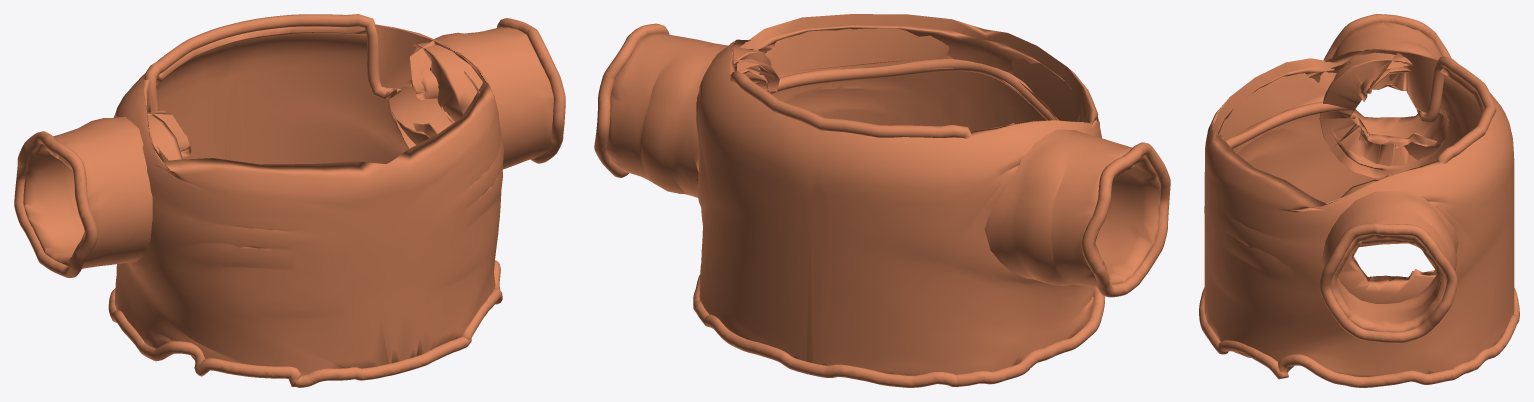
Rendered from 2HT-feminino.glb.
3 renders of one model, left to right at view 1: azimuth 30°, elevation 25°; view 2: azimuth 150°, elevation 25°; view 3: azimuth 270°, elevation 25°, orthographic. The views are drawn at different scales.
Visible parts, largest first — view 1: fitted-shell, bound-edge (×4); view 2: fitted-shell, bound-edge (×4); view 3: fitted-shell, bound-edge (×4).
Boxes of the visible parts, left/top/right/bottom form: fitted-shell: left=23, top=24, right=553, bottom=379; bound-edge (×4): left=14, top=14, right=565, bottom=387; fitted-shell: left=606, top=14, right=1160, bottom=375; bound-edge (×4): left=594, top=23, right=1170, bottom=387; fitted-shell: left=1204, top=22, right=1514, bottom=376; bound-edge (×4): left=1199, top=14, right=1519, bottom=387.
Bounding box in the file's own units: 0.0587 × 0.0273 × 0.0368.
